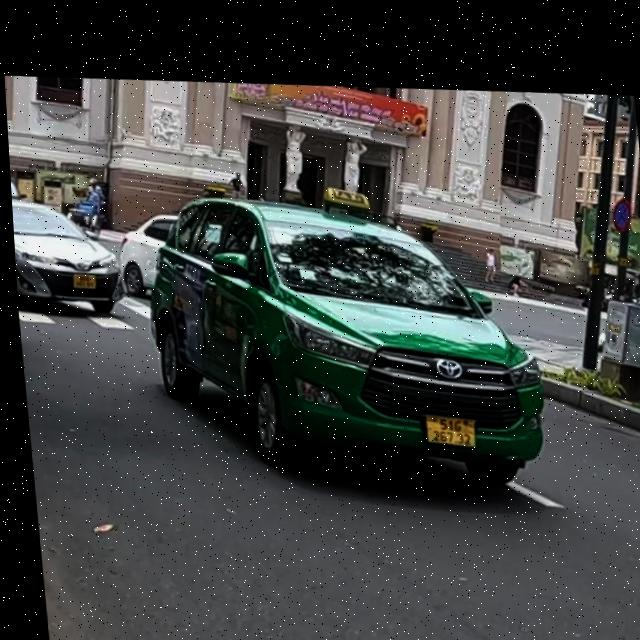car: (134, 177, 559, 516), (11, 187, 134, 331)
plate: (416, 409, 482, 455), (69, 267, 102, 296)
